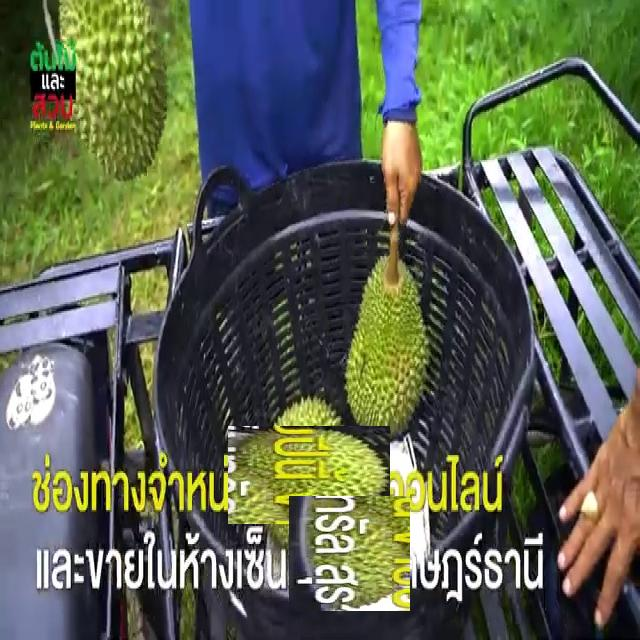durian: (58, 0, 170, 186), (342, 252, 433, 446), (243, 410, 374, 541), (290, 495, 409, 613)
